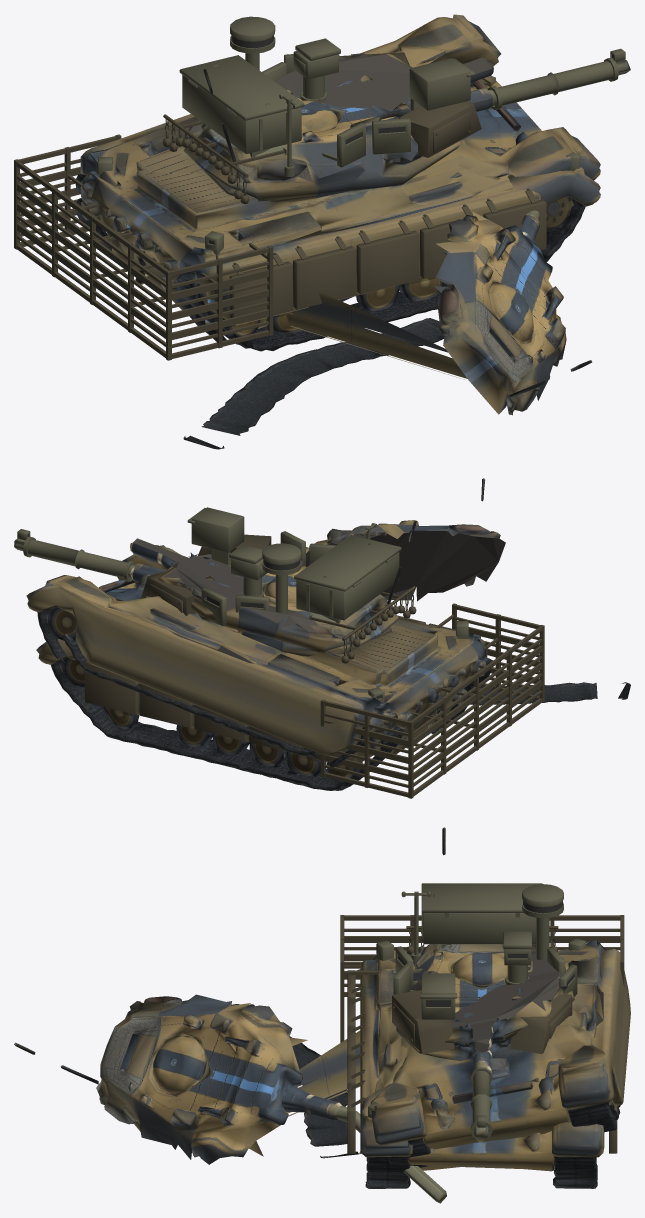
The model's file is mbt_lavi.glb.
The picture shows the model from 3 angles, top to bottom: view 1: azimuth 30°, elevation 25°; view 2: azimuth 150°, elevation 25°; view 3: azimuth 270°, elevation 25°; orthographic projection. The views are drawn at different scales.
Parts seen in each view (by area): view 1: hull_hull, WRECK_hull_hull, WRECK_turret_hull, kit_armour_2_hull_hull, kit_armour_3_hull_hull, kit_firepower_3_turret_hull, turret_hull, kit_armour_3_hull_hull_far, kit_armour_3_hull_hull_near, WRECK_hull_rubber, hull_rubber, kit_firepower_2_turret_metal (+9 smaller); view 2: WRECK_hull_hull, hull_hull, WRECK_turret_hull, hull_rubber, kit_armour_3_hull_hull, kit_firepower_3_turret_hull, kit_armour_3_hull_hull_far, kit_armour_3_hull_hull_near, kit_armour_2_hull_hull, WRECK_hull_rubber, turret_hull, kit_firepower_2_turret_metal (+7 smaller); view 3: WRECK_hull_hull, WRECK_turret_hull, hull_hull, kit_firepower_3_turret_hull, turret_hull, kit_armour_1_turret_hull, WRECK_turret_metal, kit_armour_3_hull_hull, kit_armour_2_hull_hull, kit_firepower_2_turret_metal, WRECK_hull_rubber, kit_sensors_3_turret_metal (+8 smaller).
Boxes of the visible parts, x1,y1,x2,y2 form: hull_hull: (76, 96, 600, 335); WRECK_hull_hull: (75, 14, 600, 380); WRECK_turret_hull: (434, 211, 566, 415); kit_armour_2_hull_hull: (229, 188, 546, 318); kit_armour_3_hull_hull: (14, 134, 273, 360); kit_firepower_3_turret_hull: (179, 55, 304, 157); turret_hull: (185, 75, 417, 184); kit_armour_3_hull_hull_far: (17, 167, 268, 339); kit_armour_3_hull_hull_near: (17, 159, 268, 347); WRECK_hull_rubber: (183, 296, 444, 449); hull_rubber: (224, 249, 553, 351); kit_firepower_2_turret_metal: (279, 58, 475, 176); WRECK_hull_hull: (26, 538, 468, 767); hull_hull: (36, 572, 492, 776); WRECK_turret_hull: (306, 520, 505, 601); hull_rubber: (79, 702, 362, 790); kit_armour_3_hull_hull: (320, 603, 544, 798); kit_firepower_3_turret_hull: (294, 535, 401, 623); kit_armour_3_hull_hull_far: (324, 625, 542, 780); kit_armour_3_hull_hull_near: (324, 617, 542, 787); kit_armour_2_hull_hull: (84, 615, 480, 761); WRECK_hull_rubber: (62, 633, 630, 757); turret_hull: (203, 556, 398, 643); kit_firepower_2_turret_metal: (187, 507, 377, 564); WRECK_hull_hull: (192, 940, 630, 1167); WRECK_turret_hull: (96, 994, 307, 1164); hull_hull: (360, 944, 604, 1178); kit_firepower_3_turret_hull: (421, 883, 542, 948); turret_hull: (411, 944, 536, 1046); kit_armour_1_turret_hull: (392, 990, 572, 1053); WRECK_turret_metal: (14, 1042, 446, 1203); kit_armour_3_hull_hull: (340, 915, 624, 1042); kit_armour_2_hull_hull: (347, 967, 617, 1153); kit_firepower_2_turret_metal: (401, 891, 456, 1021); WRECK_hull_rubber: (231, 1004, 620, 1158); kit_sensors_3_turret_metal: (522, 884, 563, 959).
Size of the model in its own units: 7.27 by 3.25 by 7.31.
Materials: 1 (1 with a texture image).
